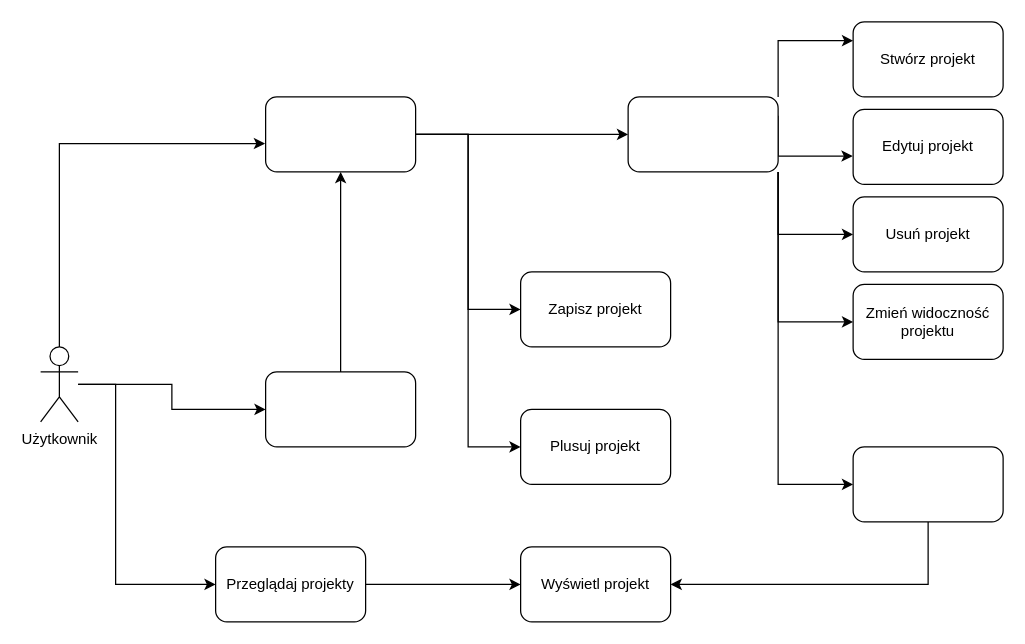
Image size: 1025x644. Some labels were removed from this diagram. The shapes that lost their labels are listed below. From the top down, each one's box as (x1, y1, x2, y2) in pixels, then its label:
(264, 96, 416, 172): Zaloguj się
(627, 96, 778, 172): Profil użytkownika
(264, 371, 416, 447): Zarejestruj się
(852, 446, 1003, 522): Przeglądaj zapisane projekty
